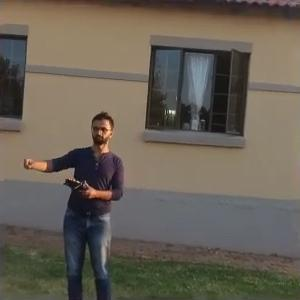follow: (18, 108, 127, 298)
